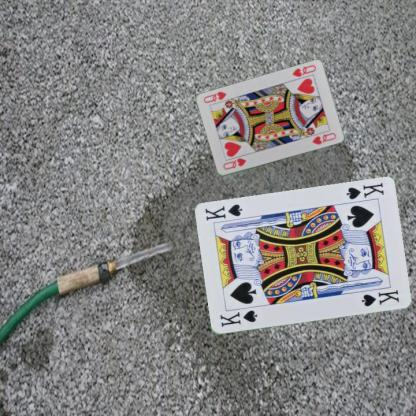Ks: (344, 180, 386, 201), (217, 308, 258, 329)
Qh: (220, 155, 247, 171), (290, 63, 317, 78)
